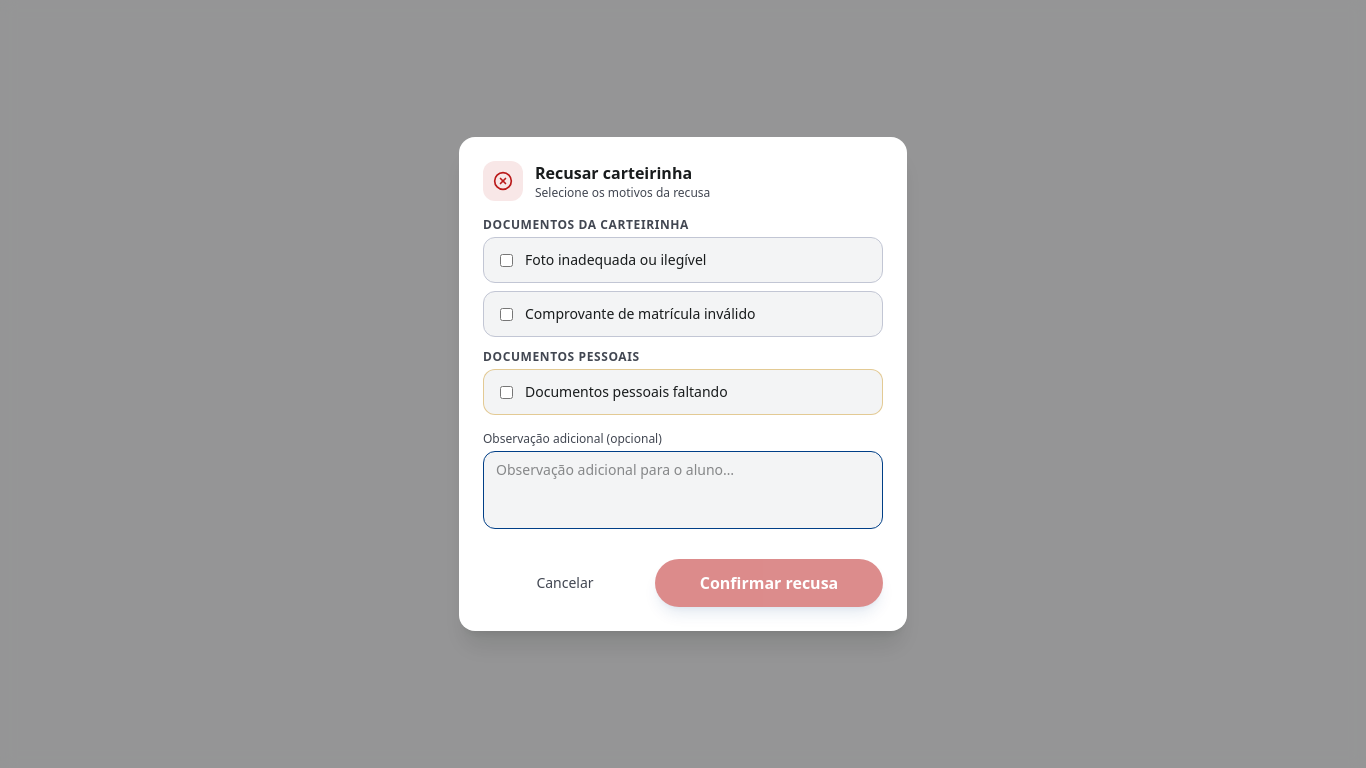
RejectModal › botão fica habilitado após selecionar pelo menos um motivo
Click the checkbox labelled "Foto inadequada ou ilegível".
click(506, 260)  # box [500,254,513,266]
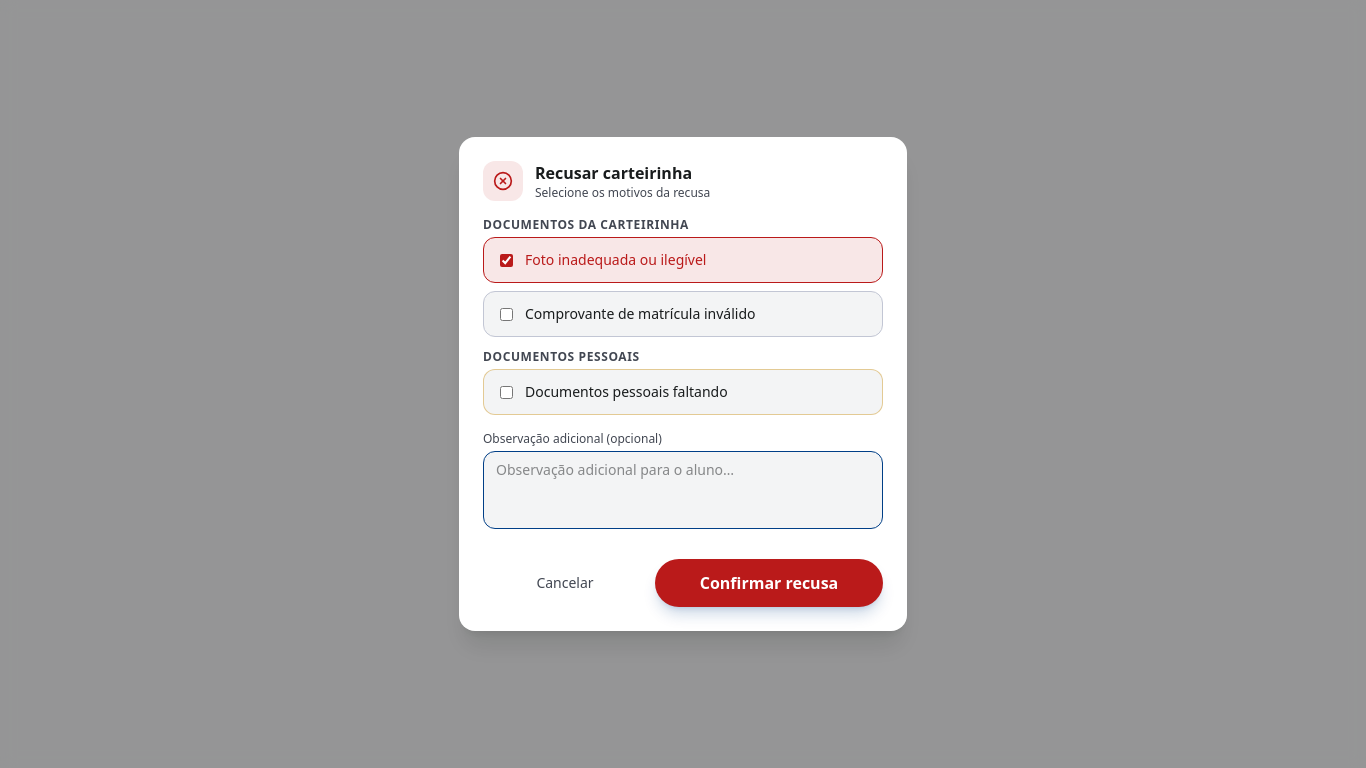
expect the button "Confirmar recusa" is enabled: met, box [655,559,883,607]
